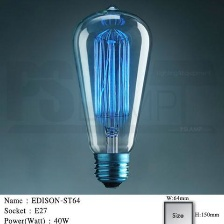light_bulb: (68, 0, 156, 192)
